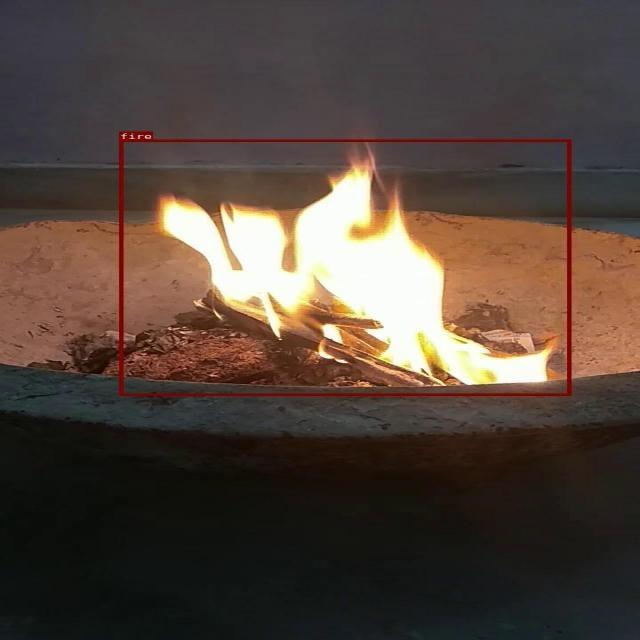fire: (119, 139, 571, 395)
